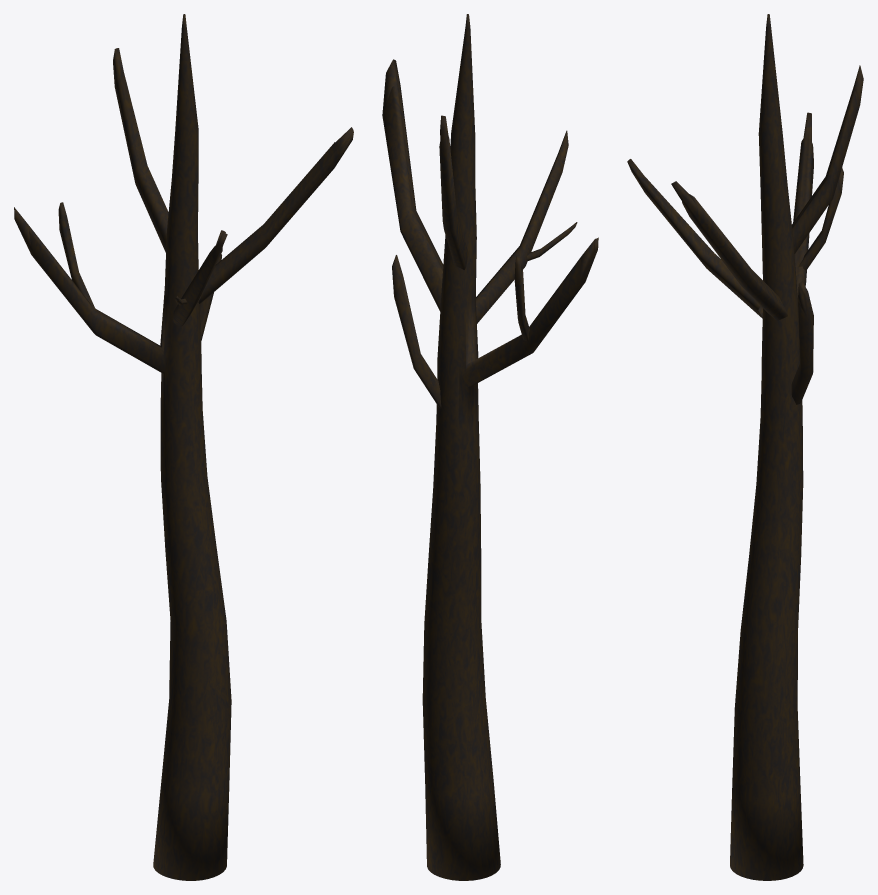
File: DeadTree1.fbx
The picture shows the model from 3 angles, left to right: view 1: azimuth 30°, elevation 25°; view 2: azimuth 150°, elevation 25°; view 3: azimuth 270°, elevation 25°; orthographic projection.
Parts seen in each view (by area): view 1: DeadTree1; view 2: DeadTree1; view 3: DeadTree1.
Part boxes in pixels (bbox=[...]): DeadTree1: bbox=[14, 14, 353, 880]; DeadTree1: bbox=[382, 14, 598, 880]; DeadTree1: bbox=[627, 14, 863, 880].
Size of the model in its own units: 211 by 627 by 158.
1 material, 1 textured.
